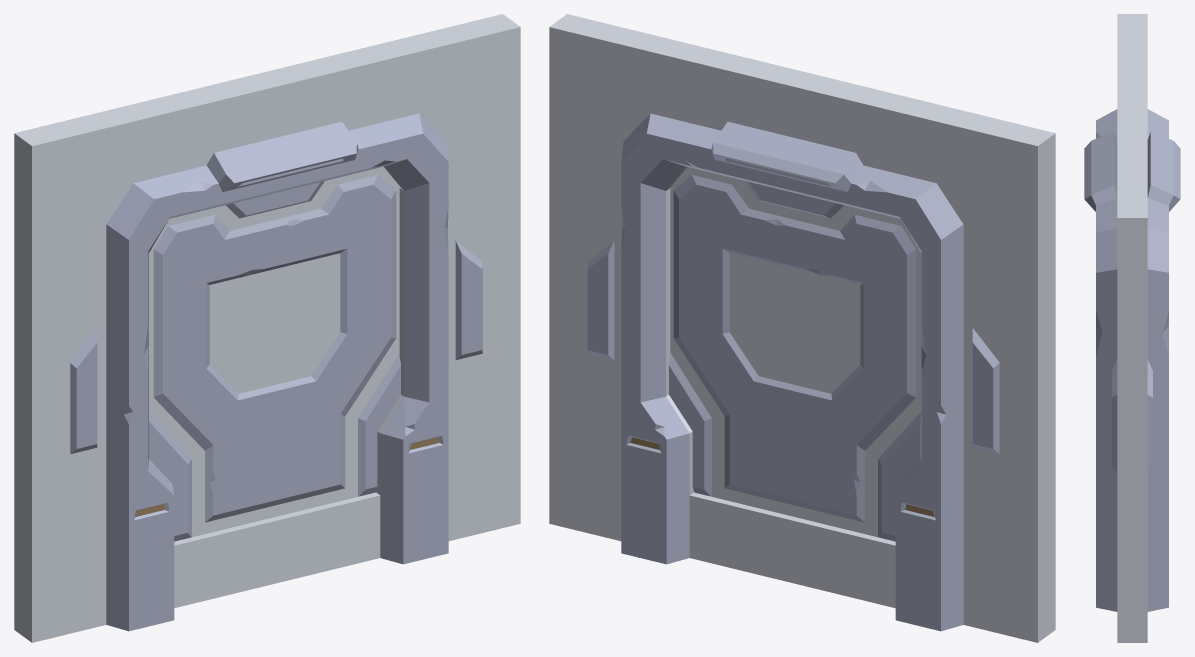
File: ExitDoor.FBX
3 views of the same model, side by side, from view 1: azimuth 30°, elevation 25°; view 2: azimuth 150°, elevation 25°; view 3: azimuth 270°, elevation 25° (orthographic). The views are drawn at different scales.
Parts seen in each view (by area): view 1: ExitDoorFrame, ExitDoor; view 2: ExitDoorFrame, ExitDoor; view 3: ExitDoorFrame.
Part boxes in pixels (<box>): ExitDoorFrame: <box>14,14,520,642</box>; ExitDoor: <box>149,167,400,541</box>; ExitDoorFrame: <box>549,14,1055,642</box>; ExitDoor: <box>669,167,920,541</box>; ExitDoorFrame: <box>1084,14,1180,642</box>.
Size of the model in its own units: 35.97 by 34.94 by 7.16.
